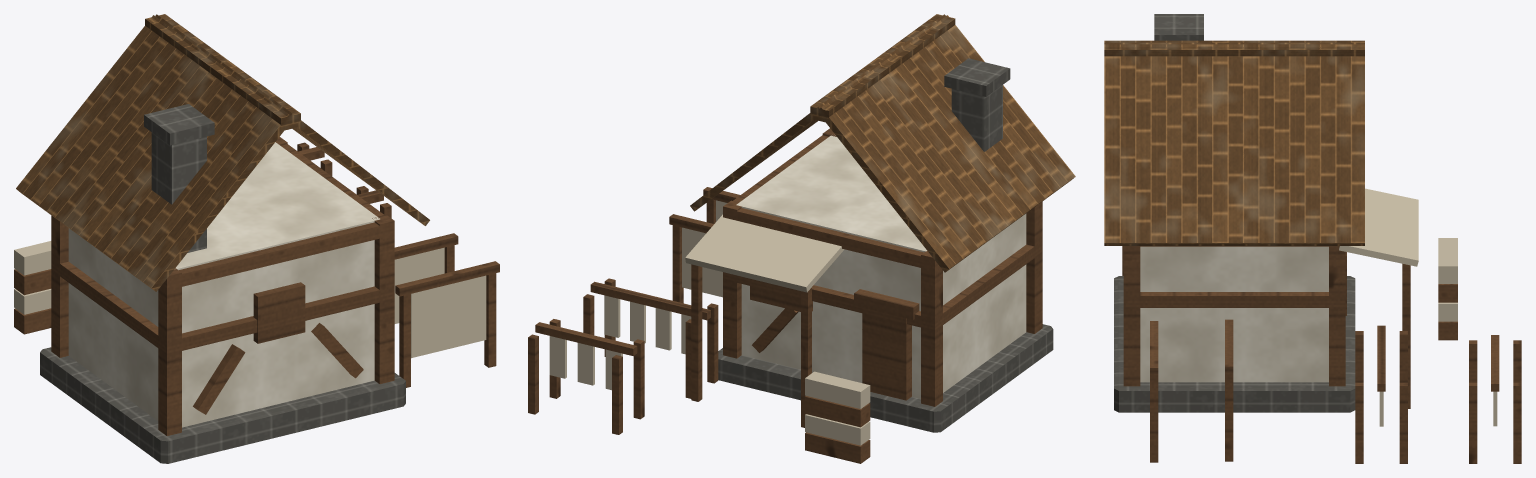
File: tailor.gltf
3 views of the same model, side by side, from view 1: azimuth 30°, elevation 25°; view 2: azimuth 150°, elevation 25°; view 3: azimuth 270°, elevation 25° (orthographic). The views are drawn at different scales.
Parts seen in each view (by area): view 1: Tailor; view 2: Tailor; view 3: Tailor.
Part boxes in pixels (box(x1,y1,x2,y2)): Tailor: box(14, 14, 499, 463); Tailor: box(528, 14, 1075, 463); Tailor: box(1104, 14, 1521, 463).
Bounding box in the file's own units: 2.99 × 2.48 × 3.01.
9 materials, 7 textured.
